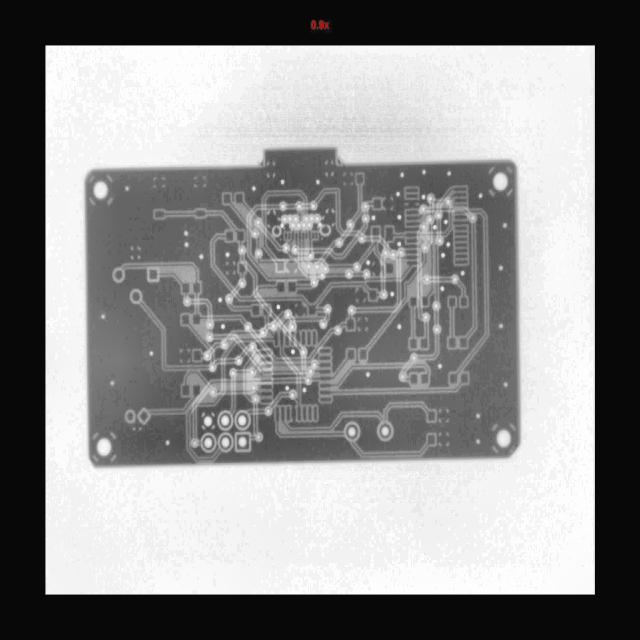Both: (93, 181, 109, 199), (344, 423, 360, 440), (201, 434, 216, 451), (218, 412, 233, 429), (236, 412, 250, 428), (494, 173, 507, 190), (497, 430, 510, 447), (98, 439, 111, 455), (237, 434, 249, 450), (220, 435, 232, 450), (379, 423, 391, 438), (139, 411, 150, 422), (114, 269, 123, 280), (132, 292, 140, 301), (321, 226, 330, 234), (191, 439, 199, 447), (295, 203, 303, 210), (433, 326, 441, 333), (252, 396, 259, 403), (210, 389, 217, 396), (221, 341, 228, 348), (324, 306, 331, 313), (184, 298, 191, 305), (292, 216, 299, 223), (382, 250, 389, 257), (354, 263, 361, 270), (274, 227, 280, 235), (251, 384, 257, 391), (249, 369, 255, 376), (207, 321, 213, 328), (255, 219, 261, 226), (296, 222, 302, 229), (421, 206, 427, 213), (381, 291, 387, 298), (205, 418, 211, 425), (127, 413, 133, 420), (250, 344, 256, 350), (335, 327, 341, 333), (226, 296, 232, 302), (252, 231, 258, 237), (287, 216, 293, 222), (314, 216, 320, 222), (280, 204, 286, 210), (427, 217, 433, 223), (346, 271, 352, 277), (290, 323, 295, 330), (400, 373, 405, 380), (306, 263, 311, 270), (256, 250, 261, 257), (266, 408, 271, 414), (256, 434, 261, 440), (306, 377, 311, 383), (301, 349, 306, 355), (210, 364, 215, 370), (231, 370, 236, 376), (271, 323, 276, 329), (246, 324, 251, 330), (321, 321, 326, 327), (323, 266, 328, 272), (293, 247, 298, 253), (205, 353, 210, 359), (290, 223, 295, 229), (301, 222, 306, 228), (304, 216, 309, 222), (311, 203, 316, 209), (337, 240, 342, 246), (470, 215, 475, 221), (422, 224, 427, 230), (423, 245, 428, 251), (391, 251, 396, 257), (399, 249, 404, 255), (364, 271, 369, 277), (434, 303, 439, 309), (240, 247, 244, 254), (309, 369, 314, 374), (312, 362, 317, 367), (261, 330, 266, 335), (286, 312, 291, 317), (349, 308, 354, 313), (308, 253, 313, 258), (282, 217, 287, 222), (309, 216, 314, 221), (425, 277, 430, 282), (452, 277, 457, 282), (503, 223, 508, 228), (237, 358, 241, 364), (412, 355, 416, 361), (284, 245, 288, 251), (307, 222, 311, 228), (438, 238, 442, 244), (291, 392, 295, 397), (208, 335, 212, 340), (424, 315, 428, 320), (312, 280, 316, 285), (320, 273, 324, 278), (315, 264, 319, 269), (240, 281, 244, 286), (360, 236, 364, 241), (349, 222, 353, 227), (364, 216, 368, 221), (364, 204, 368, 209), (429, 196, 433, 201), (437, 213, 441, 218), (447, 199, 451, 204), (390, 292, 394, 297), (366, 372, 370, 377), (504, 382, 508, 387), (444, 220, 448, 224), (441, 253, 445, 257), (476, 414, 480, 418), (476, 440, 480, 444), (499, 324, 503, 328), (185, 231, 188, 236), (398, 324, 401, 329), (111, 381, 114, 385), (150, 351, 153, 355), (200, 255, 203, 259), (252, 187, 255, 191), (281, 180, 284, 184), (316, 180, 319, 184), (372, 216, 375, 220), (398, 215, 401, 219), (401, 173, 404, 177), (422, 195, 425, 199), (479, 194, 482, 198), (499, 266, 502, 270), (226, 253, 229, 257), (277, 305, 280, 309), (291, 350, 294, 354), (303, 388, 306, 392), (398, 242, 401, 246), (433, 225, 436, 229), (447, 242, 450, 246), (441, 287, 444, 291), (461, 271, 464, 275), (439, 364, 442, 368), (102, 315, 105, 318), (185, 243, 188, 246), (286, 387, 289, 390), (219, 298, 221, 302), (397, 192, 399, 196), (423, 170, 425, 174), (167, 441, 169, 444), (126, 187, 128, 190), (222, 325, 224, 328), (448, 172, 450, 175), (367, 261, 369, 264), (281, 224, 283, 227), (319, 223, 321, 226)
L1: (175, 343, 306, 440), (231, 198, 313, 298), (233, 254, 301, 355), (208, 328, 309, 390), (355, 252, 422, 329), (296, 223, 370, 262), (249, 329, 334, 362), (252, 349, 311, 376), (189, 292, 219, 322), (363, 230, 393, 256), (258, 257, 327, 267), (258, 225, 284, 251), (419, 229, 424, 319), (426, 207, 471, 217), (267, 390, 289, 409), (213, 357, 235, 366), (287, 251, 307, 260), (207, 342, 221, 354), (341, 227, 351, 241), (402, 361, 412, 373), (426, 223, 431, 246), (382, 254, 385, 291), (231, 285, 240, 297), (216, 389, 252, 392), (254, 403, 257, 435), (264, 324, 272, 331), (438, 219, 440, 238), (315, 270, 318, 281), (290, 316, 294, 324), (325, 313, 328, 321), (353, 273, 363, 275), (430, 279, 450, 280), (302, 205, 311, 207), (436, 310, 437, 326), (236, 372, 250, 373), (287, 206, 296, 207)
L2: (196, 227, 382, 347), (170, 314, 282, 468), (122, 231, 249, 357), (364, 180, 467, 307), (355, 251, 435, 362), (117, 300, 209, 391), (450, 210, 489, 383), (267, 407, 344, 457), (263, 192, 306, 271), (314, 184, 369, 245), (153, 206, 246, 241), (320, 374, 468, 395), (280, 407, 384, 436), (319, 363, 430, 387), (460, 223, 480, 348), (178, 312, 218, 365), (235, 344, 272, 401), (279, 333, 302, 421), (145, 261, 194, 302), (301, 349, 358, 383), (352, 436, 435, 457), (287, 232, 321, 282), (359, 227, 393, 273), (220, 192, 254, 237), (149, 386, 201, 413), (276, 308, 324, 334), (432, 181, 467, 213), (178, 367, 212, 396), (366, 261, 417, 280), (417, 334, 447, 366), (385, 404, 435, 421), (232, 191, 257, 225), (223, 326, 259, 343), (227, 302, 261, 316), (353, 175, 363, 222), (318, 241, 337, 265), (262, 305, 275, 339), (454, 279, 469, 308), (448, 298, 456, 348), (410, 297, 417, 348), (252, 355, 273, 370), (434, 243, 439, 300), (300, 233, 308, 265), (289, 282, 312, 292), (340, 314, 354, 329), (448, 191, 467, 200), (421, 322, 427, 348), (231, 377, 235, 414), (274, 312, 286, 324), (254, 389, 272, 397), (407, 212, 425, 220), (240, 345, 251, 358), (286, 233, 296, 245), (368, 200, 381, 208), (194, 351, 205, 360), (239, 264, 246, 278), (405, 375, 417, 383), (247, 409, 265, 414), (395, 256, 417, 259), (319, 349, 330, 354), (317, 363, 330, 367), (315, 370, 331, 373), (329, 266, 353, 268), (405, 250, 417, 254), (407, 222, 419, 226), (455, 249, 467, 253), (406, 210, 418, 214), (406, 194, 418, 198), (455, 198, 467, 202), (309, 231, 311, 253), (261, 399, 272, 403), (319, 356, 330, 360), (456, 260, 467, 264), (456, 243, 467, 247), (261, 385, 271, 389), (287, 407, 290, 420), (303, 407, 306, 420), (309, 407, 312, 420), (314, 407, 317, 420), (291, 332, 294, 345), (313, 331, 316, 344), (307, 332, 310, 344), (455, 255, 467, 258), (455, 238, 467, 241), (406, 189, 418, 192), (455, 216, 467, 219), (320, 398, 331, 401), (286, 333, 289, 344), (302, 333, 305, 344), (455, 227, 466, 230), (261, 365, 271, 368), (407, 239, 417, 242), (295, 233, 297, 247), (430, 202, 432, 215), (455, 233, 467, 235), (257, 236, 259, 248), (324, 274, 345, 275), (315, 233, 317, 238), (305, 233, 307, 238), (289, 234, 291, 239), (312, 234, 314, 238), (285, 234, 287, 238), (251, 437, 256, 438), (365, 211, 366, 214)
